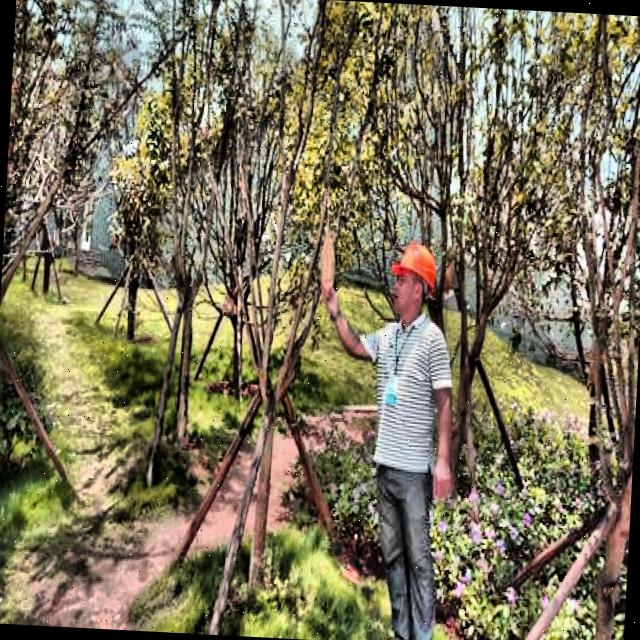helmet: (386, 237, 440, 326)
